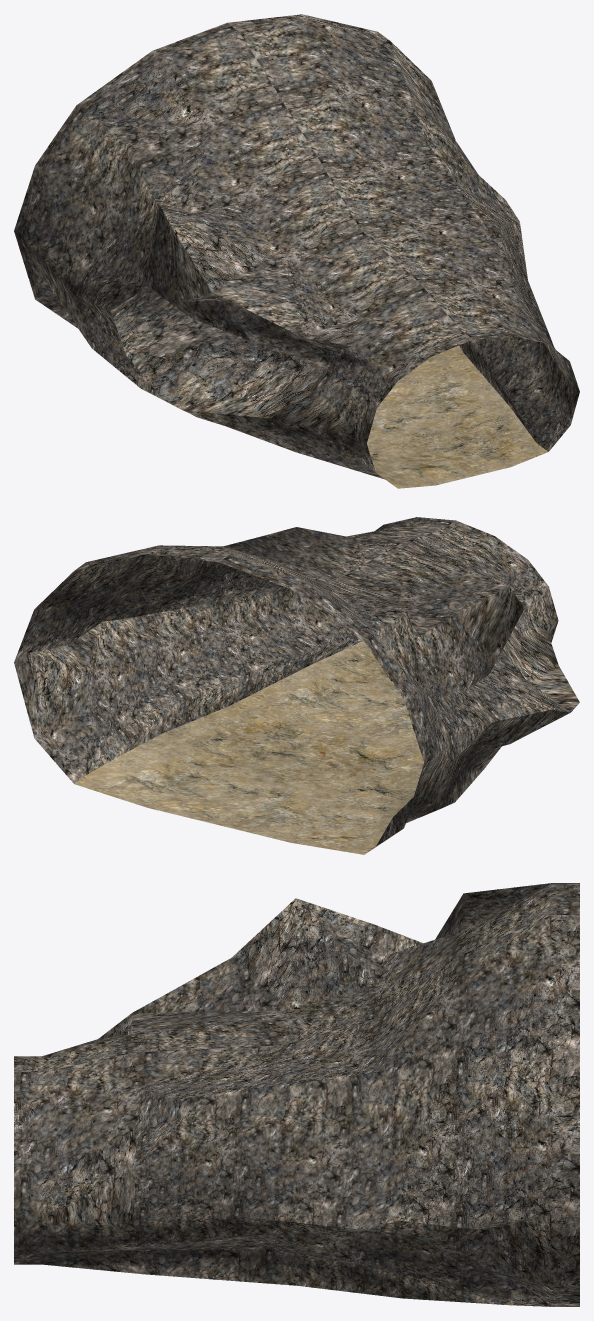
Rendered from pir_m_are_cav_hallTransition.fbx.
3 renders of one model, top to bottom at view 1: azimuth 30°, elevation 25°; view 2: azimuth 150°, elevation 25°; view 3: azimuth 270°, elevation 25°, orthographic. The views are drawn at different scales.
Visible parts, largest first — view 1: hallTransition_wall, hallTransition_floor; view 2: hallTransition_wall, hallTransition_floor; view 3: hallTransition_wall.
Boxes of the visible parts, bbox=[...] form: hallTransition_wall: bbox=[14, 14, 579, 479]; hallTransition_floor: bbox=[367, 345, 548, 488]; hallTransition_wall: bbox=[14, 517, 579, 852]; hallTransition_floor: bbox=[74, 641, 424, 854]; hallTransition_wall: bbox=[14, 883, 579, 1306].
Bounding box in the file's own units: 10241 × 6125 × 10000.
Materials: 2 (2 with a texture image).
